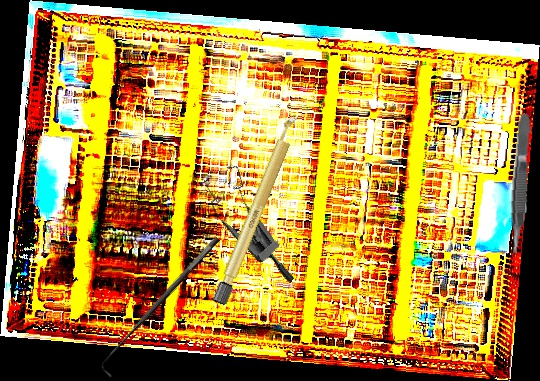Hook Surgical: (93, 235, 231, 379)
Scalpel Handle: (211, 110, 304, 308)
Speculum: (184, 155, 328, 285)
Tissue Forceps: (505, 113, 536, 256)
